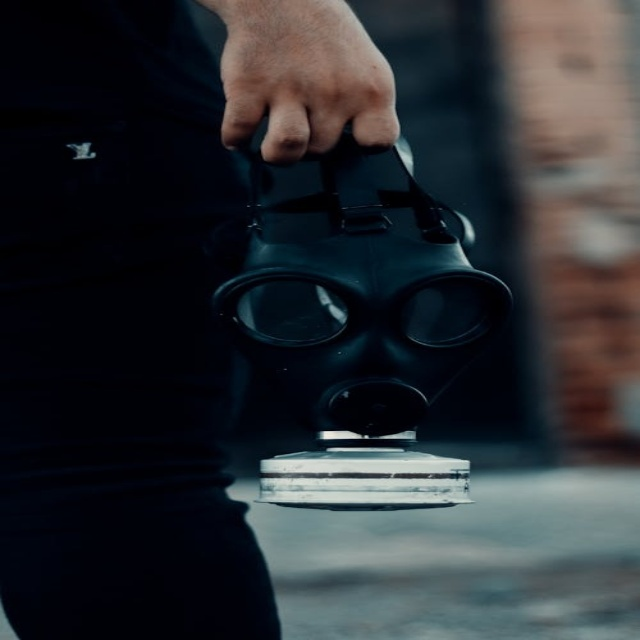Sin_guantes: (209, 6, 404, 166)
